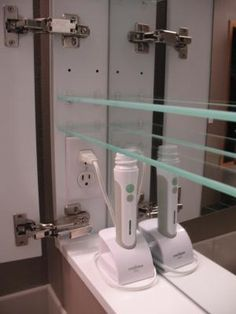outlet: (80, 173, 92, 186)
